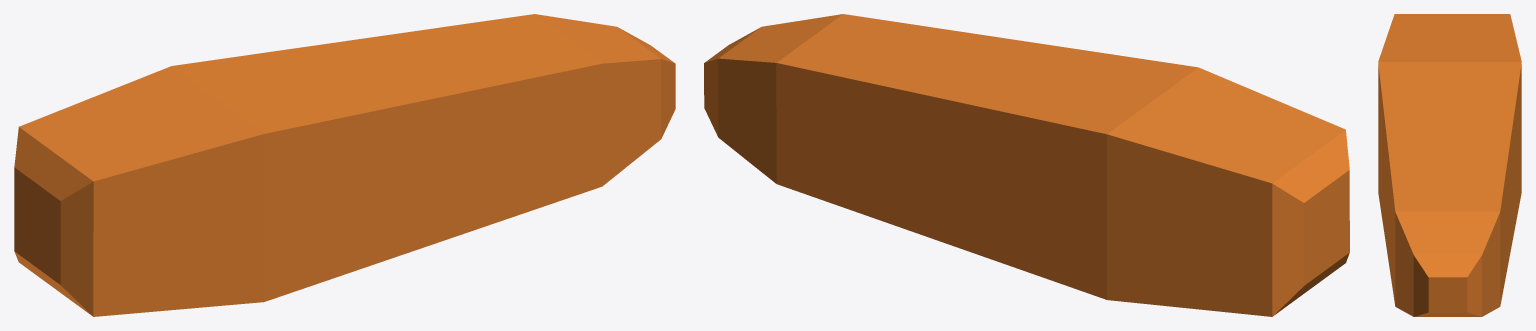
Rendered from corn.fbx.
3 renders of one model, left to right at view 1: azimuth 30°, elevation 25°; view 2: azimuth 150°, elevation 25°; view 3: azimuth 270°, elevation 25°, orthographic. The views are drawn at different scales.
Parts seen in each view (by area): view 1: corn; view 2: corn; view 3: corn.
Part boxes in pixels (box(x1,y1,x2,y2)): corn: box(14, 14, 675, 316); corn: box(704, 14, 1349, 316); corn: box(1378, 14, 1521, 316).
Size of the model in its own units: 16.82 by 4.34 by 4.34.
1 material, 1 textured.
